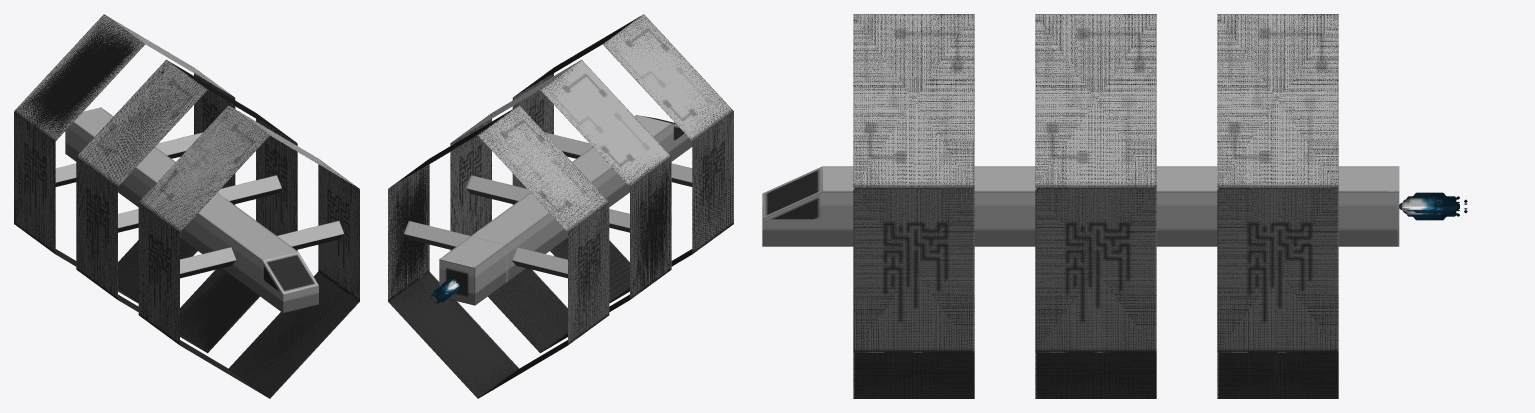
Rendered from ship.obj.
The picture shows the model from 3 angles, left to right: view 1: azimuth 30°, elevation 25°; view 2: azimuth 150°, elevation 25°; view 3: azimuth 270°, elevation 25°; orthographic projection. The views are drawn at different scales.
Visible parts, largest first — view 1: Default; view 2: Default; view 3: Default.
Part boxes in pixels (<box>): Default: <box>14,14,359,398</box>; Default: <box>388,14,733,398</box>; Default: <box>762,14,1467,398</box>.
Size of the model in its own units: 5 by 7 by 12.5.
Materials: 1 (1 with a texture image).
